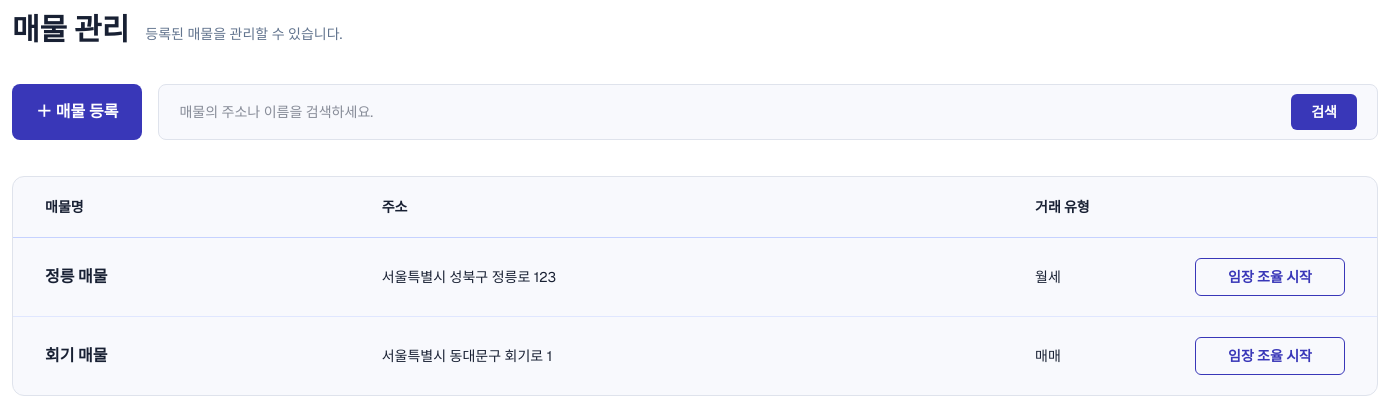
PropertyList › filters properties by the search query
Expected: the link "정릉 매물" is shown, [45,266,108,287]
Type "회기" into the field with placeholder "매물의 주소나 이름을 검색하세요." at (735, 112), box [179,102,1291,122]
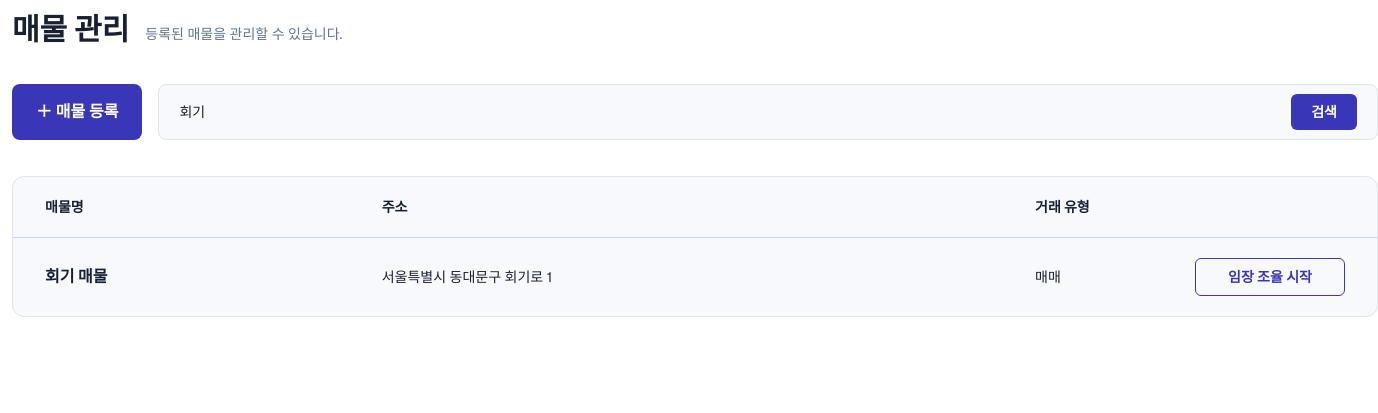
Expected: the link "회기 매물" is shown, [45,266,108,287]
Expected: the link "정릉 매물" is gone
